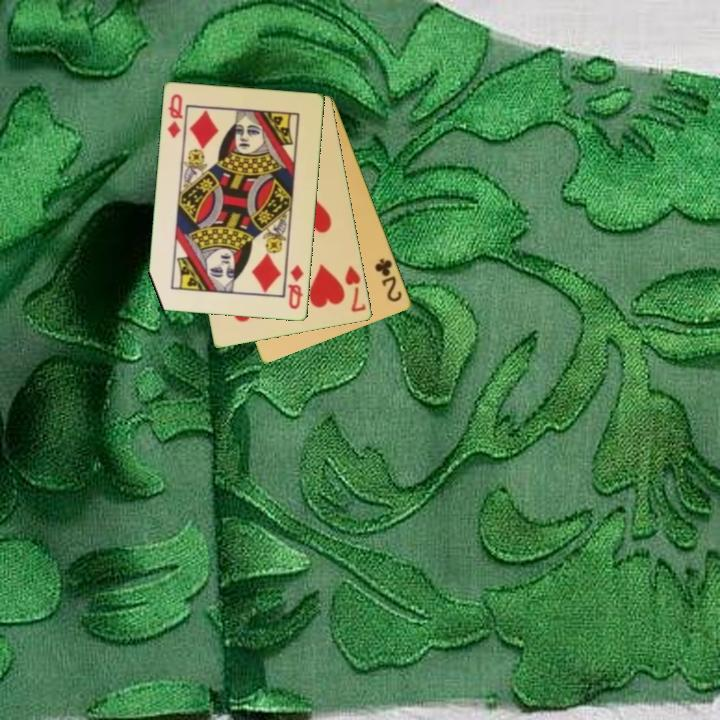2c: (371, 255, 405, 305)
7h: (342, 262, 369, 315)
Qd: (284, 261, 307, 312), (164, 91, 186, 142)
